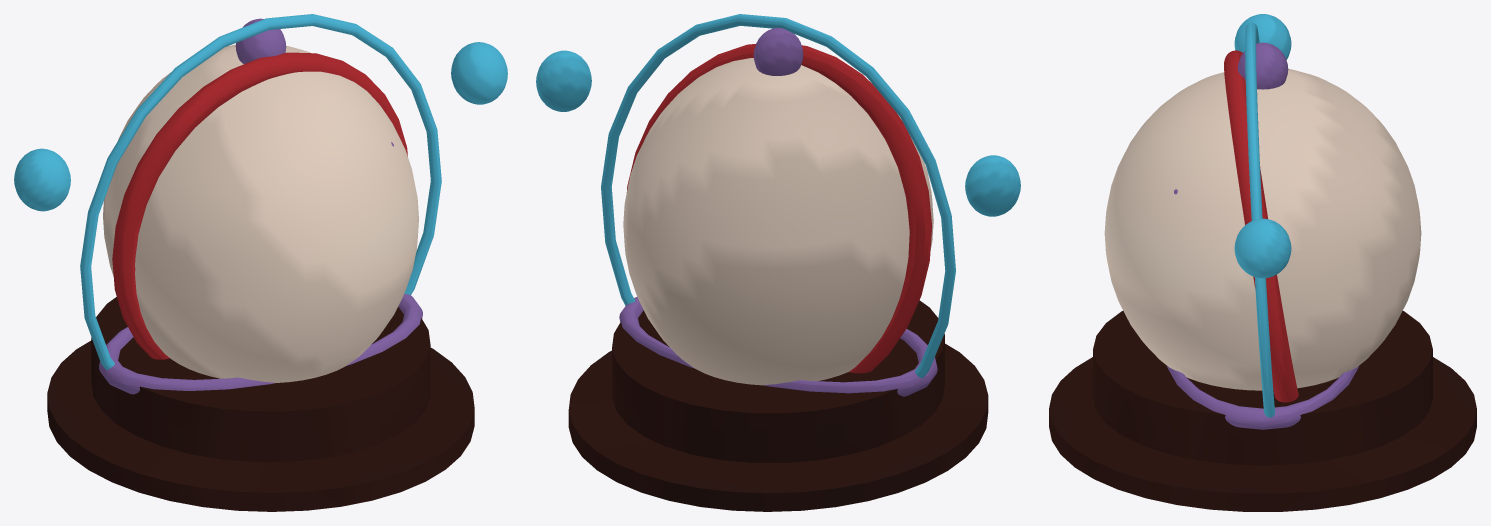
File: 0442_探秘火星图鉴_火星岩石.glb
3 renders of one model, left to right at view 1: azimuth 30°, elevation 25°; view 2: azimuth 150°, elevation 25°; view 3: azimuth 270°, elevation 25°, orthographic. The views are drawn at different scales.
Parts seen in each view (by area): view 1: card_0442; view 2: card_0442; view 3: card_0442.
Part boxes in pixels (left/top/right/bottom): card_0442: left=14, top=14, right=507, bottom=511; card_0442: left=536, top=14, right=1020, bottom=511; card_0442: left=1049, top=14, right=1476, bottom=511.
Size of the model in its own units: 1.21 by 1 by 0.9628.
